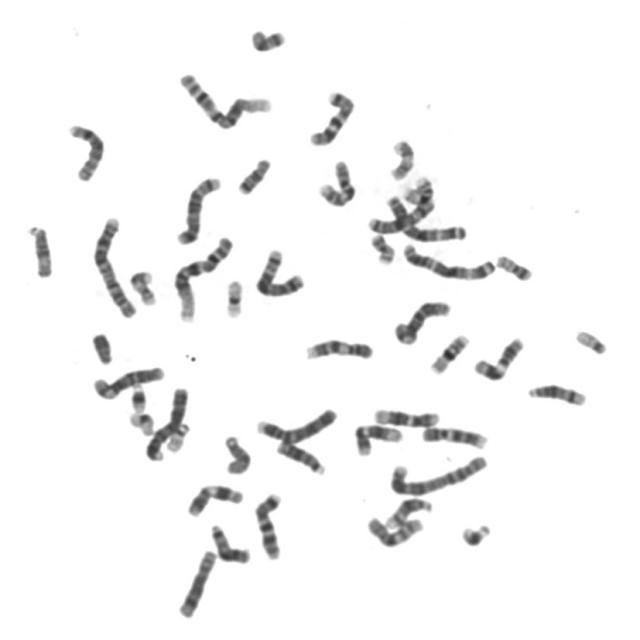A1: (175, 67, 275, 131), (169, 230, 237, 324)
A2: (88, 211, 140, 320), (385, 448, 492, 497)
A3: (382, 190, 468, 243), (398, 237, 498, 282)
B4: (141, 381, 191, 462), (250, 402, 340, 445)
B5: (172, 170, 225, 247), (251, 243, 309, 299)
C10: (362, 510, 428, 550), (314, 154, 359, 208)
C11: (469, 331, 527, 383), (182, 478, 246, 519)
C12: (350, 418, 405, 457), (370, 402, 443, 428)
C6: (389, 295, 454, 346), (89, 361, 167, 402)
C7: (304, 85, 358, 147), (249, 486, 286, 562)
C8: (173, 544, 219, 620), (62, 118, 108, 183)
C9: (417, 420, 492, 450), (300, 333, 377, 362)
D13: (272, 436, 329, 476), (206, 519, 253, 565)
D14: (380, 492, 436, 530), (523, 377, 590, 408)
D15: (22, 219, 56, 279), (219, 429, 254, 476)
E16: (425, 328, 473, 376), (394, 173, 436, 205)
E17: (385, 134, 418, 182), (124, 264, 160, 306)
E18: (233, 152, 274, 196), (246, 22, 290, 53)
F19: (221, 273, 246, 320), (124, 406, 158, 437)
F20: (492, 248, 536, 283), (365, 228, 399, 265)
G21: (456, 517, 495, 549), (126, 379, 150, 413)
G22: (570, 324, 610, 356), (162, 417, 192, 454)
X: (362, 198, 444, 235)
Y: (87, 326, 115, 366)
